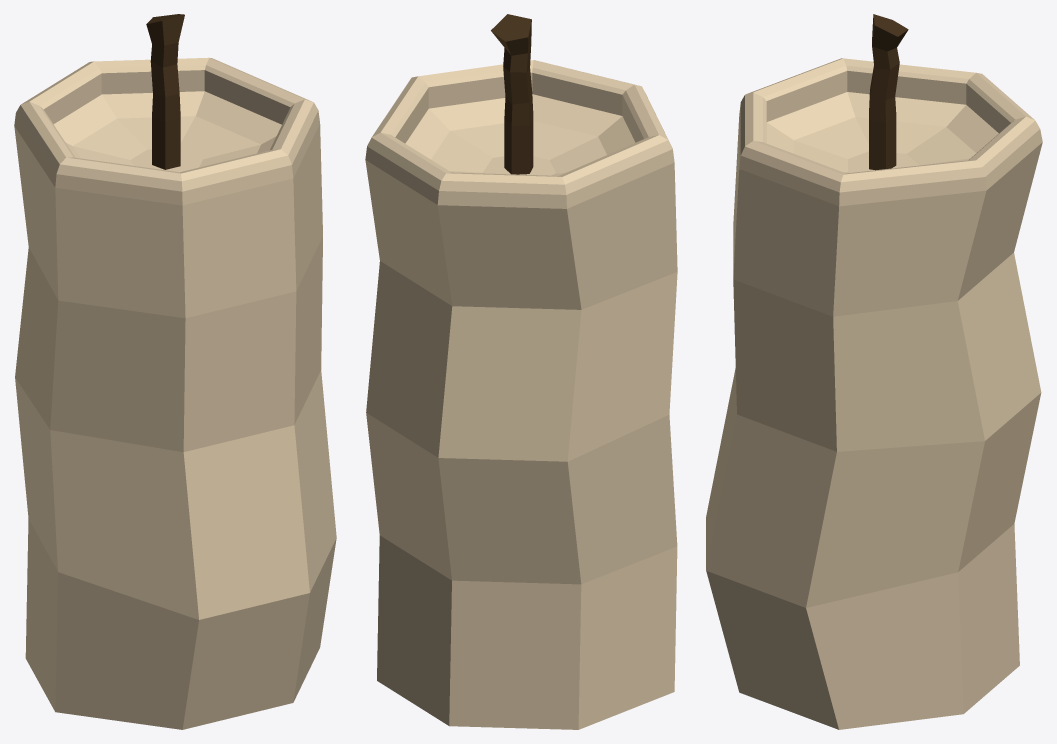
File: candle.fbx
3 renders of one model, left to right at view 1: azimuth 30°, elevation 25°; view 2: azimuth 150°, elevation 25°; view 3: azimuth 270°, elevation 25°, orthographic.
Parts seen in each view (by area): view 1: candle:Mesh; view 2: candle:Mesh; view 3: candle:Mesh.
Part boxes in pixels (x1,y1,x2,y2): candle:Mesh: (14, 14, 336, 729); candle:Mesh: (365, 14, 677, 729); candle:Mesh: (706, 14, 1042, 729).
Size of the model in its own units: 0.3371 by 0.7888 by 0.3718.
